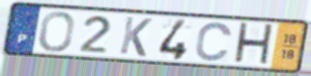2: (78, 14, 114, 55)
4: (156, 17, 190, 62)
C: (193, 21, 235, 63)
H: (231, 21, 276, 68)
K: (117, 15, 154, 59)
O: (37, 10, 77, 53)
